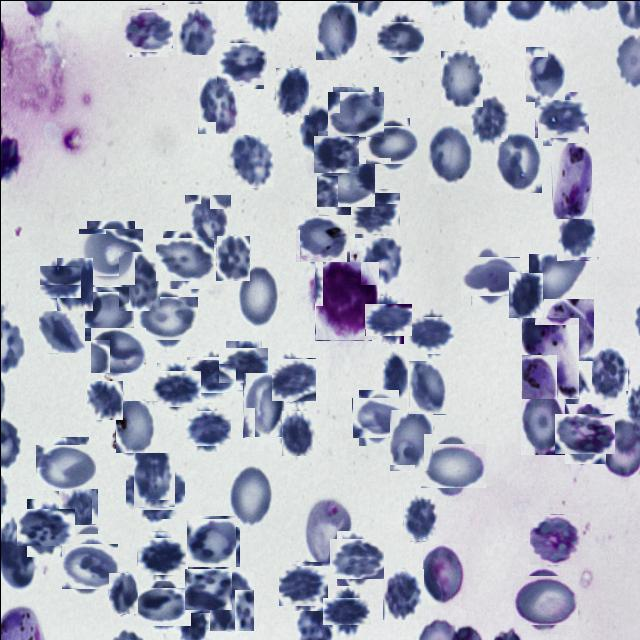difficult: (543, 298, 593, 360)
leukocyte: (314, 261, 378, 340)
red blood cell: (516, 570, 574, 628), (304, 495, 351, 565), (424, 437, 480, 493), (82, 224, 138, 280), (493, 130, 541, 193), (528, 253, 588, 303), (38, 439, 92, 494), (228, 463, 273, 528), (520, 390, 565, 454), (388, 408, 432, 471), (425, 124, 471, 184), (237, 263, 280, 327), (141, 292, 193, 344), (186, 516, 238, 568), (208, 571, 253, 631), (422, 543, 465, 605), (242, 372, 283, 437), (158, 233, 210, 284), (63, 540, 114, 591), (129, 463, 180, 514), (319, 159, 370, 210), (330, 89, 380, 140), (226, 134, 273, 188), (464, 250, 514, 300), (560, 408, 610, 458), (92, 324, 142, 374), (298, 213, 348, 263), (529, 514, 579, 564), (314, 2, 357, 60), (81, 288, 130, 338), (196, 76, 238, 134), (118, 251, 159, 310), (440, 50, 482, 106), (184, 194, 230, 245), (132, 452, 174, 507), (354, 392, 402, 440), (137, 582, 185, 630), (21, 503, 69, 551), (122, 6, 170, 54), (332, 534, 380, 581), (524, 46, 564, 102), (115, 400, 157, 452), (218, 40, 265, 86), (538, 95, 584, 142), (590, 346, 627, 404), (382, 568, 423, 619), (176, 3, 217, 54), (352, 190, 398, 235), (407, 360, 445, 414), (368, 121, 413, 166), (280, 563, 325, 608), (152, 366, 197, 410), (185, 566, 230, 610), (138, 533, 182, 577), (38, 310, 84, 352), (360, 238, 402, 284), (56, 257, 92, 310), (189, 352, 232, 396), (272, 358, 316, 400), (556, 216, 598, 260), (57, 488, 97, 534), (185, 406, 228, 448), (408, 314, 451, 356), (222, 344, 264, 386), (314, 132, 356, 174), (379, 17, 420, 59), (367, 298, 407, 338), (508, 270, 542, 316), (275, 67, 308, 114), (471, 98, 507, 141), (215, 235, 249, 280), (402, 498, 437, 541), (327, 592, 365, 630), (281, 410, 313, 455), (86, 380, 122, 419), (41, 262, 78, 299), (107, 572, 137, 614)
trophozoite: (520, 316, 578, 398), (551, 142, 591, 219)
